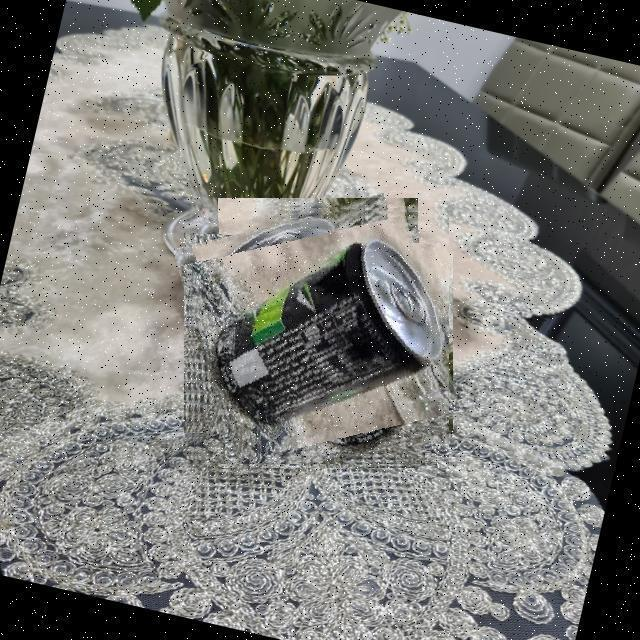recyclable: (187, 202, 449, 464)
